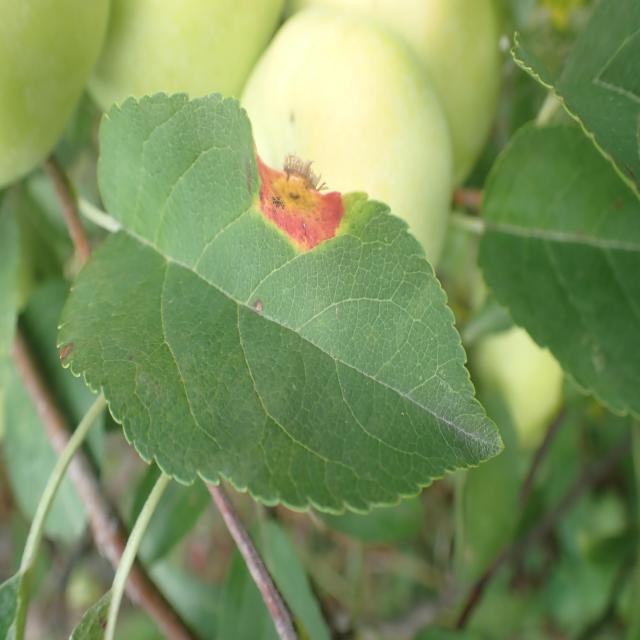rust: (56, 91, 507, 517)
